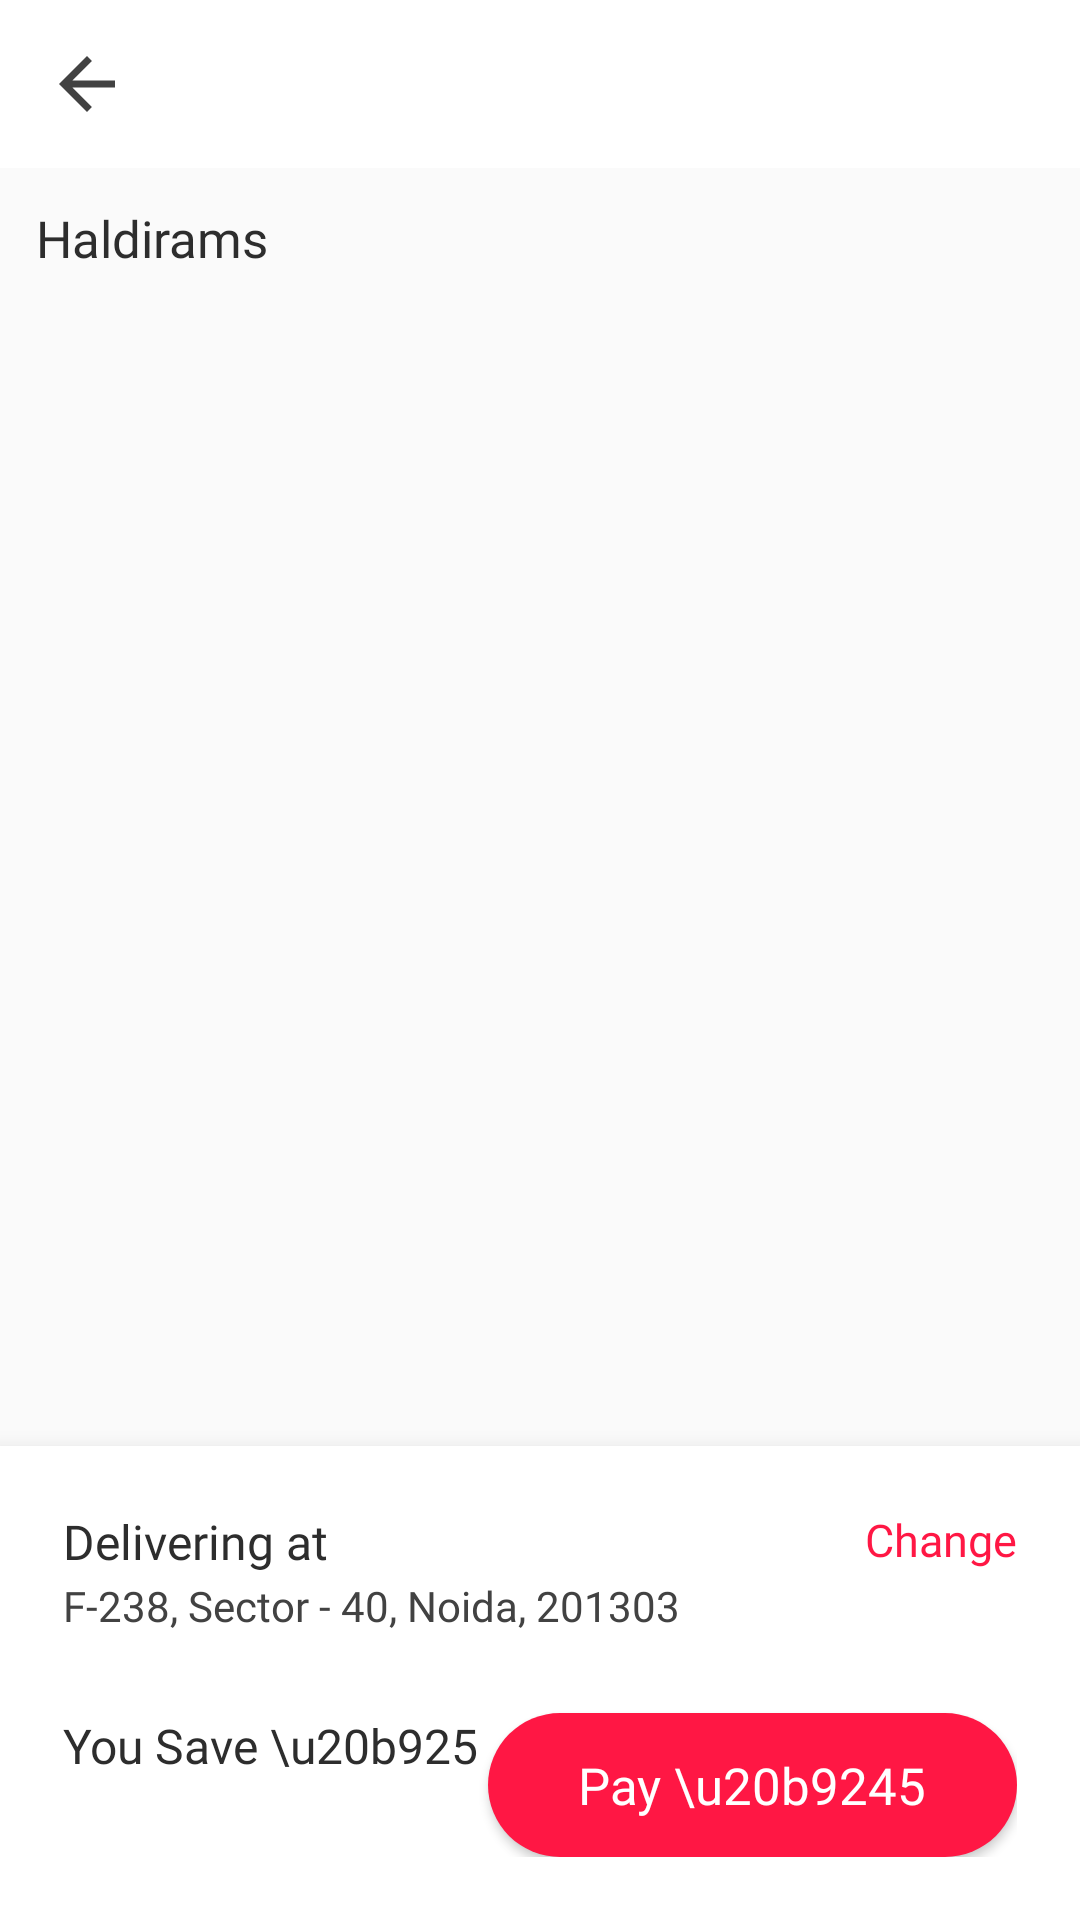

Where icons sit on this 1080px x 1920px app screen, as (x1, y1, x2, y2):
back arrow: (59, 56, 115, 112)
